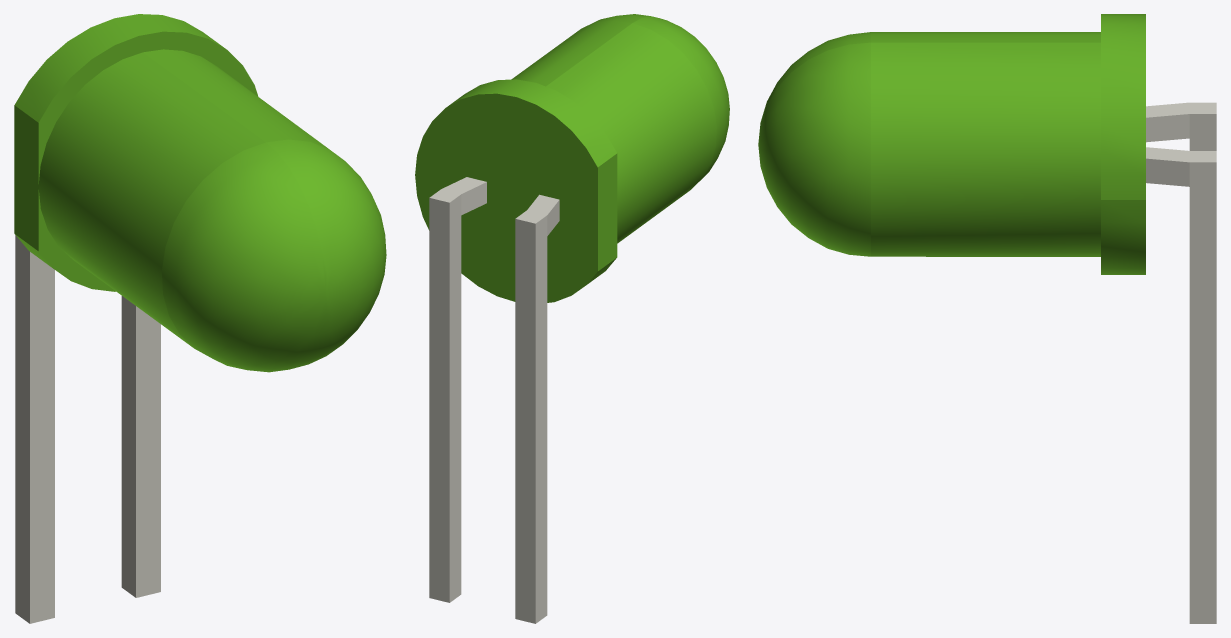
File: kc-led_d5.0mm_horizontal_o1.27mm_z9.0mm.glb
3 views of the same model, side by side, from view 1: azimuth 30°, elevation 25°; view 2: azimuth 150°, elevation 25°; view 3: azimuth 270°, elevation 25° (orthographic). The views are drawn at different scales.
Parts seen in each view (by area): view 1: 0.16666666666666666_0.4166666666666667_0_0, 0.6666666666666666_0.6666666666666666_0.5833333333333334_0.8; view 2: 0.16666666666666666_0.4166666666666667_0_0, 0.6666666666666666_0.6666666666666666_0.5833333333333334_0.8; view 3: 0.16666666666666666_0.4166666666666667_0_0, 0.6666666666666666_0.6666666666666666_0.5833333333333334_0.8.
Part boxes in pixels (box(x1,y1,x2,y2)): 0.16666666666666666_0.4166666666666667_0_0: box(14, 14, 386, 372); 0.6666666666666666_0.6666666666666666_0.5833333333333334_0.8: box(15, 235, 160, 623); 0.16666666666666666_0.4166666666666667_0_0: box(415, 14, 729, 302); 0.6666666666666666_0.6666666666666666_0.5833333333333334_0.8: box(429, 177, 559, 623); 0.16666666666666666_0.4166666666666667_0_0: box(758, 14, 1145, 274); 0.6666666666666666_0.6666666666666666_0.5833333333333334_0.8: box(1146, 102, 1216, 623).
Size of the model in its own units: 0.54 by 1.39 by 1.02.
